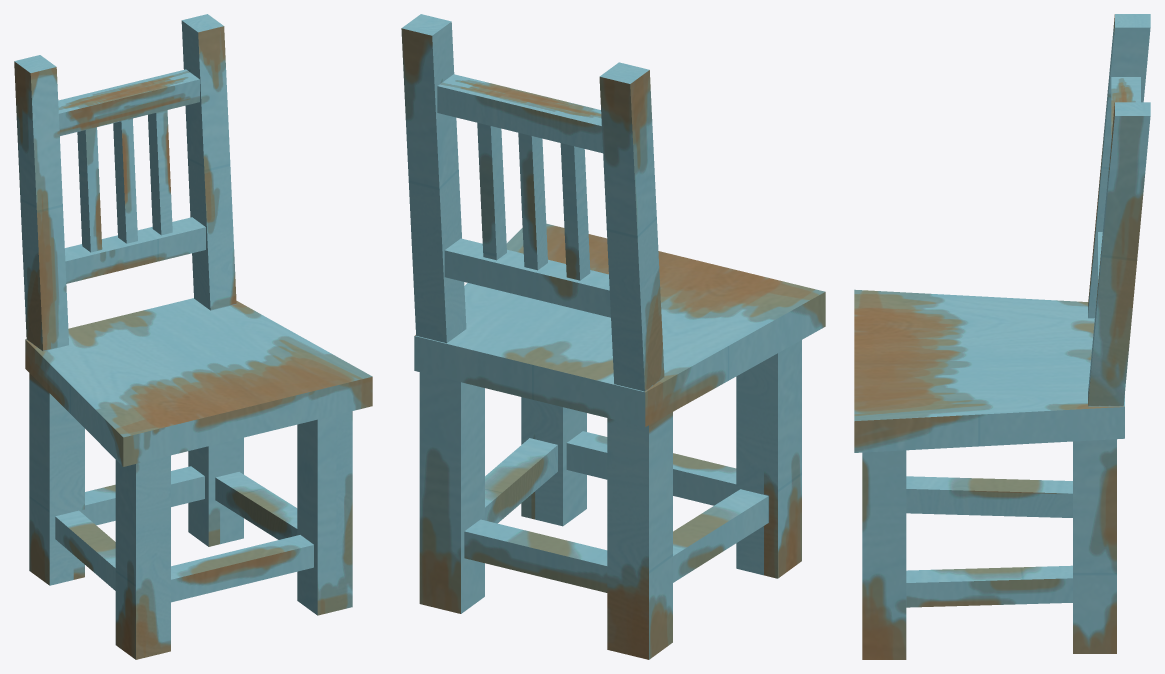
The model's file is chair.fbx.
3 renders of one model, left to right at view 1: azimuth 30°, elevation 25°; view 2: azimuth 150°, elevation 25°; view 3: azimuth 270°, elevation 25°, orthographic. The views are drawn at different scales.
Parts seen in each view (by area): view 1: Cube.001; view 2: Cube.001; view 3: Cube.001.
Part boxes in pixels (<box>): Cube.001: <box>14,14,372,659</box>; Cube.001: <box>401,14,825,659</box>; Cube.001: <box>854,14,1150,659</box>.
Size of the model in its own units: 230 by 439 by 219.
1 material, 1 textured.
